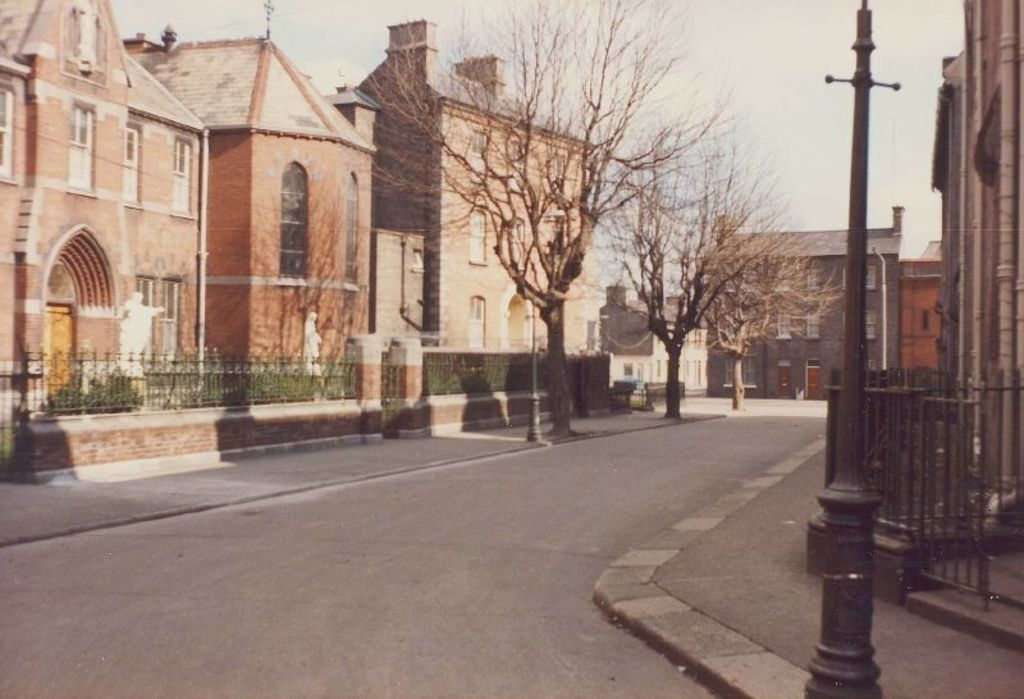Tree: (343, 0, 738, 451), (586, 168, 778, 408), (714, 229, 858, 407)
